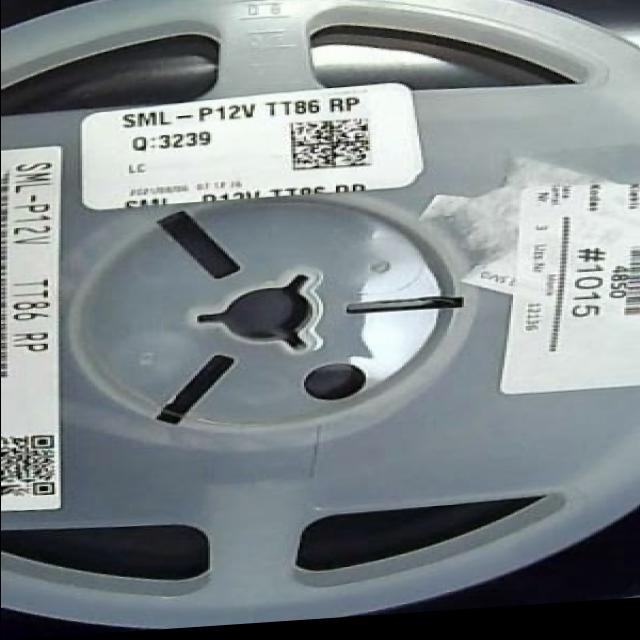datamatrix: (290, 120, 376, 177)
qrcode: (1, 434, 60, 501)
